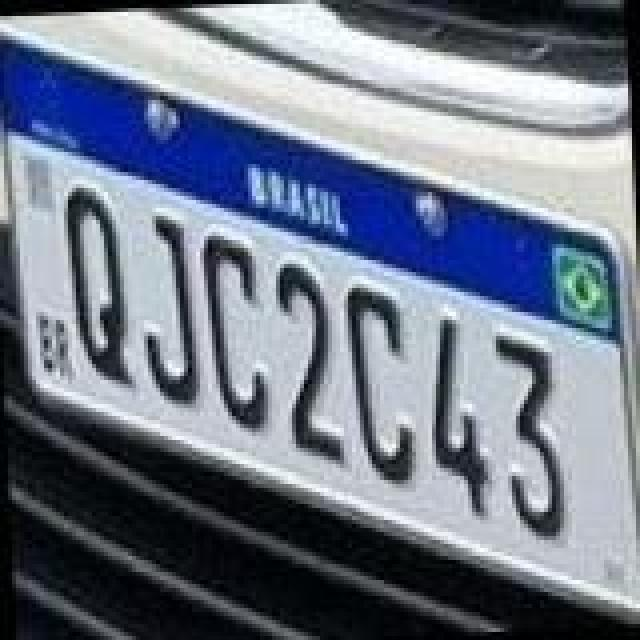2: (272, 252, 352, 468)
3: (492, 324, 572, 540)
4: (420, 310, 492, 522)
C: (340, 272, 420, 488), (200, 222, 272, 434)
J: (134, 204, 202, 404)
Q: (58, 178, 134, 390)
